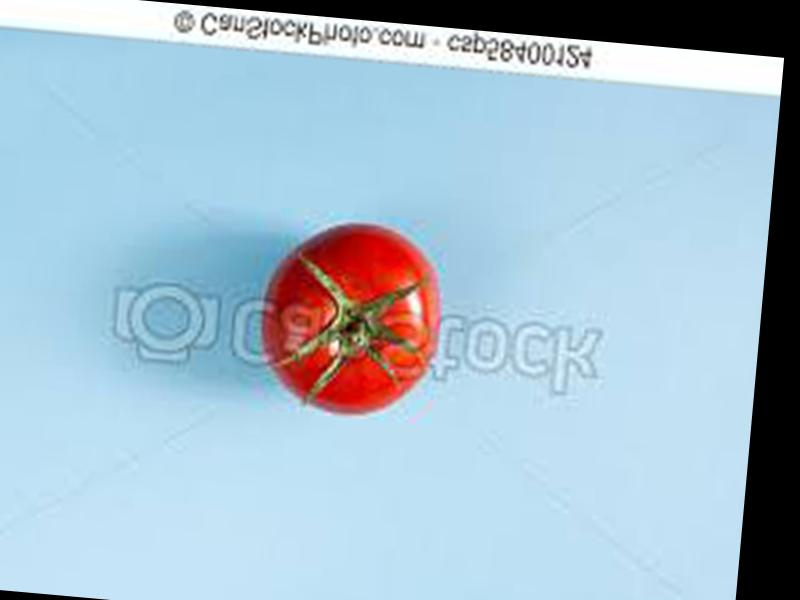Tomato: (258, 212, 446, 420)
